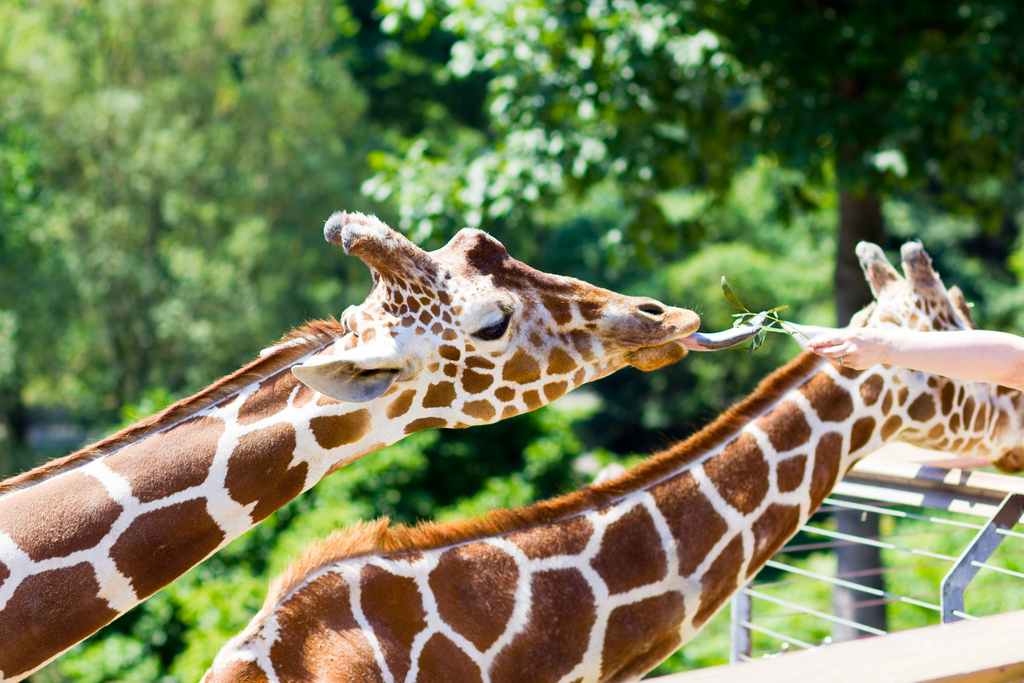giraffe: (58, 218, 811, 575), (355, 240, 984, 648)
